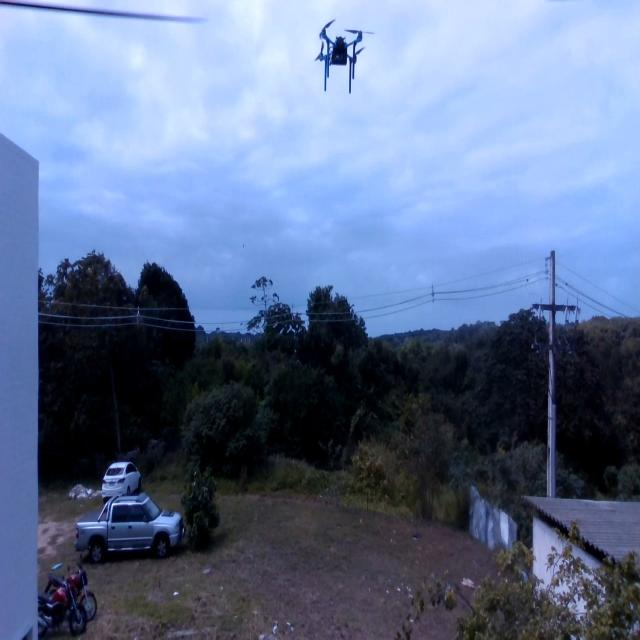-uav-: (302, 7, 381, 104)
